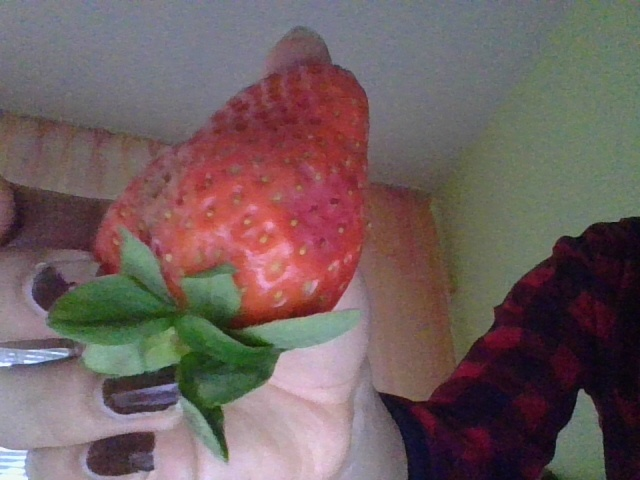ripe: (102, 67, 370, 382)
